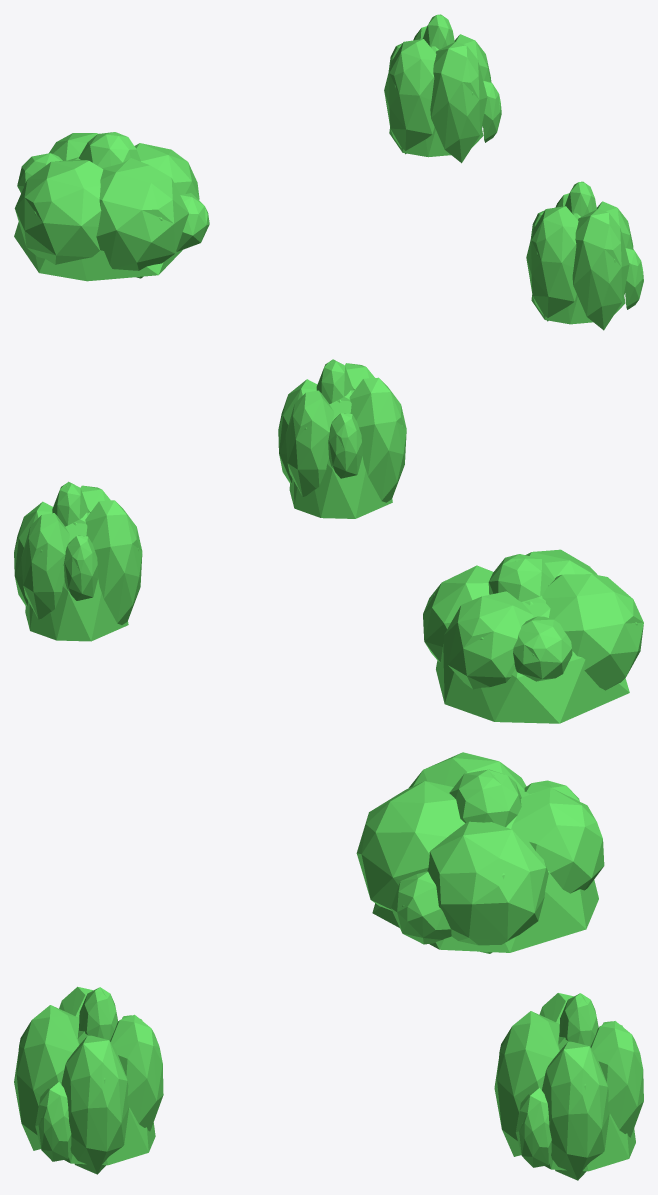
File: forest3.glb
The picture shows the model from 3 angles, top to bottom: view 1: azimuth 30°, elevation 25°; view 2: azimuth 150°, elevation 25°; view 3: azimuth 270°, elevation 25°; orthographic projection. The views are drawn at different scales.
Visible parts, largest first — view 1: Sphere.030, Sphere.033, Sphere.031; view 2: Sphere.030, Sphere.033, Sphere.031; view 3: Sphere.030, Sphere.033, Sphere.031.
Part boxes in pixels (left/top/right/bottom): Sphere.030: left=14, top=132, right=209, bottom=281; Sphere.033: left=526, top=181, right=643, bottom=330; Sphere.031: left=384, top=14, right=501, bottom=163; Sphere.030: left=423, top=549, right=643, bottom=723; Sphere.033: left=278, top=359, right=406, bottom=518; Sphere.031: left=14, top=481, right=142, bottom=641; Sphere.030: left=356, top=752, right=604, bottom=953; Sphere.033: left=14, top=986, right=163, bottom=1174; Sphere.031: left=494, top=993, right=643, bottom=1180.
Size of the model in its own units: 24.05 by 6.74 by 20.3.
